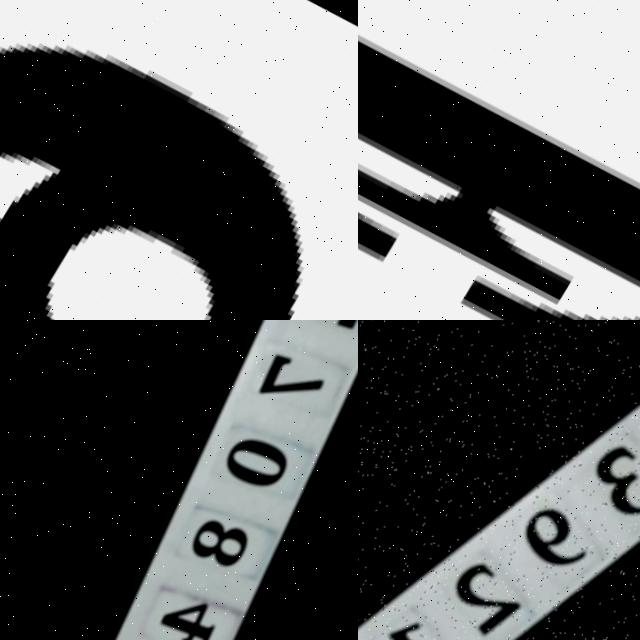0: (202, 409, 318, 516)
1: (358, 591, 481, 640)
2: (415, 529, 558, 640), (272, 320, 358, 355)
3: (555, 414, 640, 556)
4: (137, 570, 249, 640)
6: (0, 0, 358, 320)
7: (240, 329, 352, 433)
8: (172, 494, 277, 591)
9: (489, 476, 627, 608)
E: (358, 42, 640, 305)
